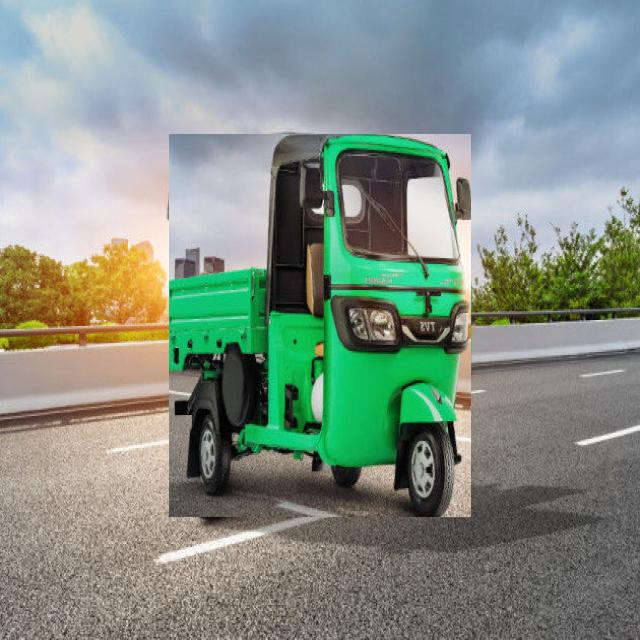autorickshaw: (169, 135, 471, 517)
